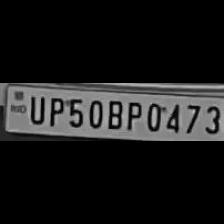0: (84, 96, 104, 128), (144, 100, 162, 132)
3: (202, 102, 220, 134)
4: (162, 100, 180, 134)
5: (64, 96, 84, 128)
7: (181, 100, 199, 134)
B: (104, 96, 122, 130)
P: (122, 98, 142, 132), (45, 94, 63, 128)
U: (24, 93, 46, 125)
